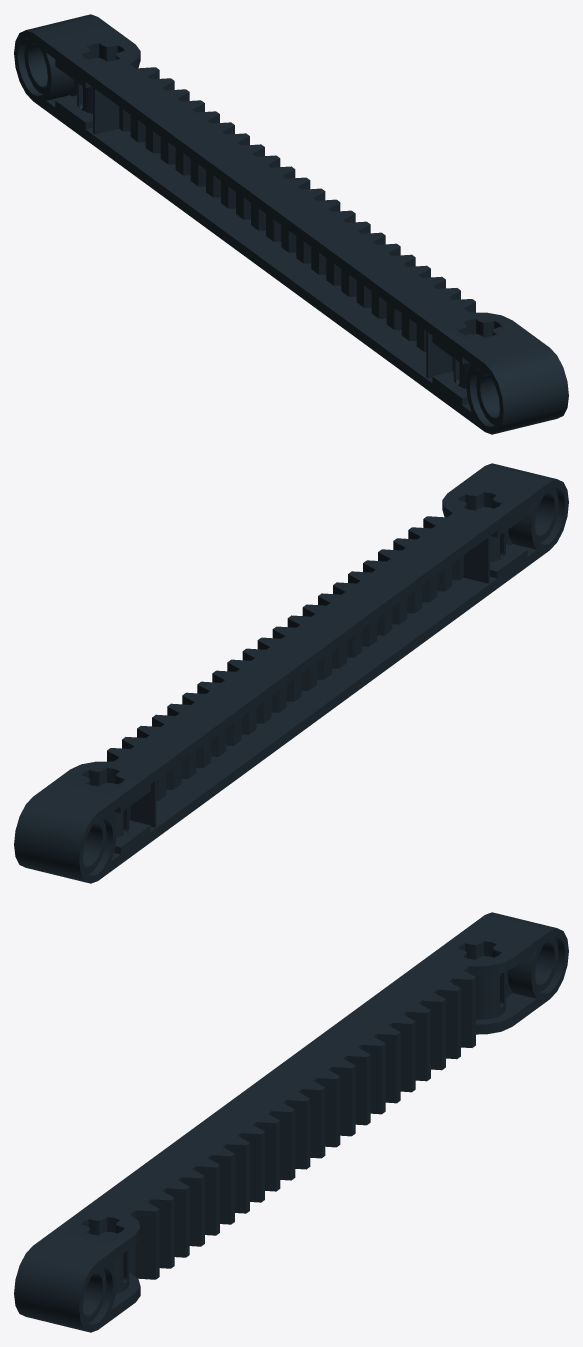
The model's file is Left_rack.obj.
The picture shows the model from 3 angles, top to bottom: view 1: azimuth 30°, elevation 25°; view 2: azimuth 150°, elevation 25°; view 3: azimuth 330°, elevation 25°; orthographic projection.
Parts seen in each view (by area): view 1: Piece000; view 2: Piece000; view 3: Piece000.
Boxes of the visible parts, x1,y1,x2,y2 form: Piece000: (14,14,568,434); Piece000: (14,463,568,883); Piece000: (14,912,568,1332).
Size of the model in its own units: 20 by 20 by 260.
